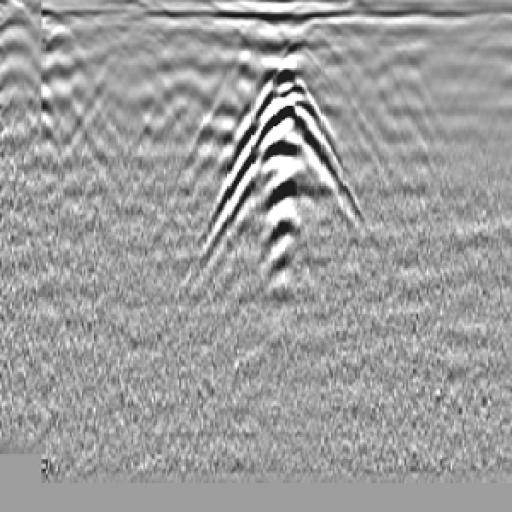metalic: (199, 62, 375, 262)
